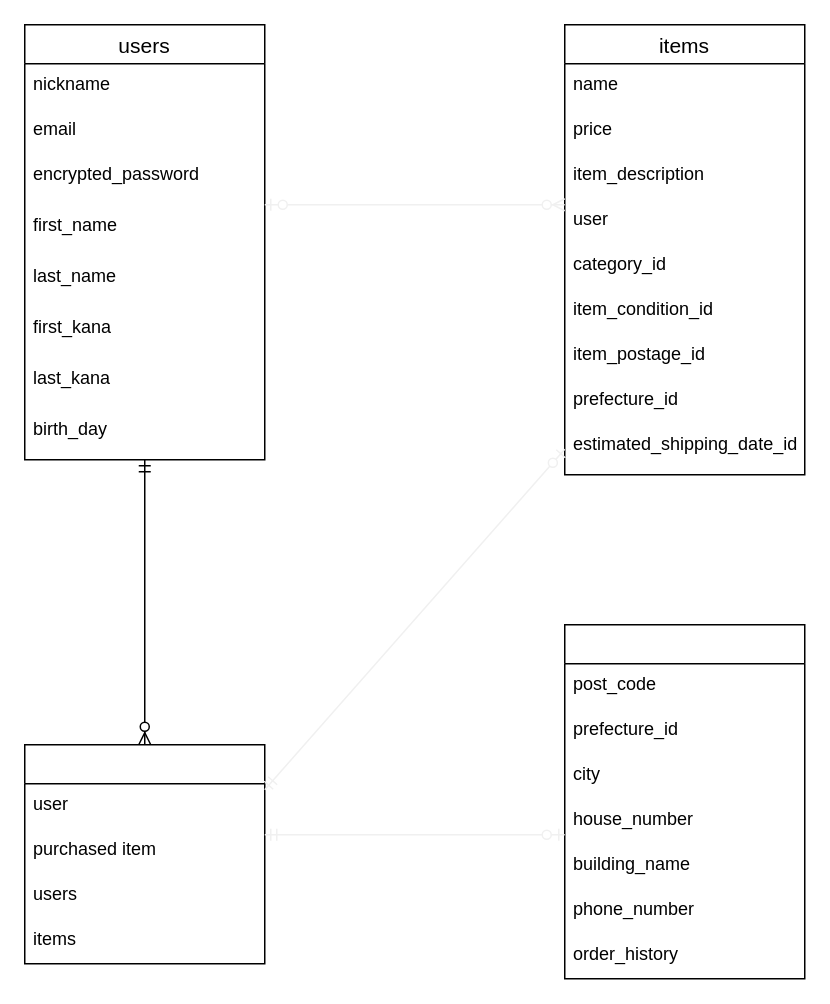
Image size: 830x1004. Some labels were removed from this diagram. Each missing label, with the box of its shape:
mailing address: (563, 623, 805, 979)
order history: (23, 743, 265, 964)
